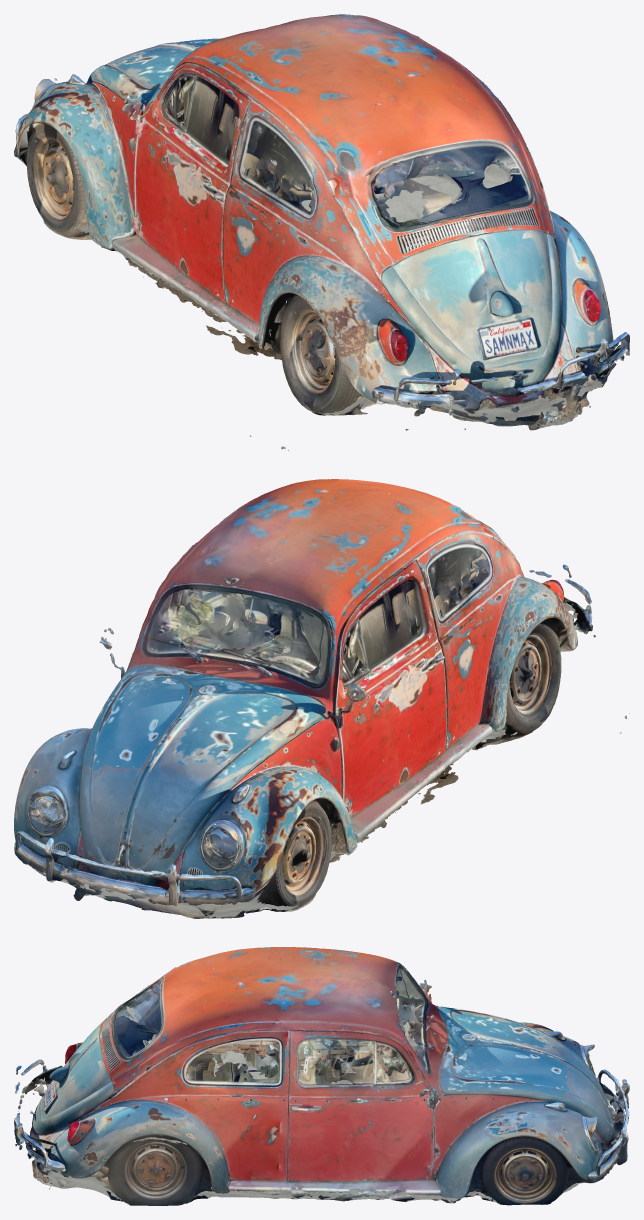
File: fusca-ratlook.glb
3 views of the same model, one above another, from view 1: azimuth 30°, elevation 25°; view 2: azimuth 150°, elevation 25°; view 3: azimuth 270°, elevation 25° (orthographic). The views are drawn at different scales.
Visible parts, largest first — view 1: Object_2, Object_3, Object_4, Object_5, Object_7, Object_6, Object_8; view 2: Object_2, Object_3, Object_4, Object_5, Object_7, Object_8; view 3: Object_2, Object_4, Object_3, Object_5, Object_7, Object_6, Object_8, Object_9.
Boxes of the visible parts, box(x1,y1,x2,y2) form: Object_2: box(23, 15, 617, 407); Object_3: box(17, 17, 627, 436); Object_4: box(80, 14, 622, 426); Object_5: box(14, 21, 629, 429); Object_7: box(15, 21, 628, 449); Object_6: box(240, 168, 628, 436); Object_8: box(30, 16, 628, 430); Object_2: box(14, 479, 577, 918); Object_3: box(14, 479, 620, 911); Object_4: box(28, 483, 588, 917); Object_5: box(14, 491, 592, 918); Object_7: box(17, 499, 626, 918); Object_8: box(32, 513, 588, 911); Object_2: box(16, 947, 629, 1205); Object_4: box(16, 948, 623, 1205); Object_3: box(16, 957, 625, 1203); Object_5: box(14, 958, 629, 1205); Object_7: box(14, 961, 629, 1204); Object_6: box(19, 1016, 611, 1204); Object_8: box(14, 953, 626, 1205); Object_9: box(16, 961, 627, 1202).
Bounding box in the file's own units: 1.95 × 1.37 × 4.
8 materials, 8 textured.
